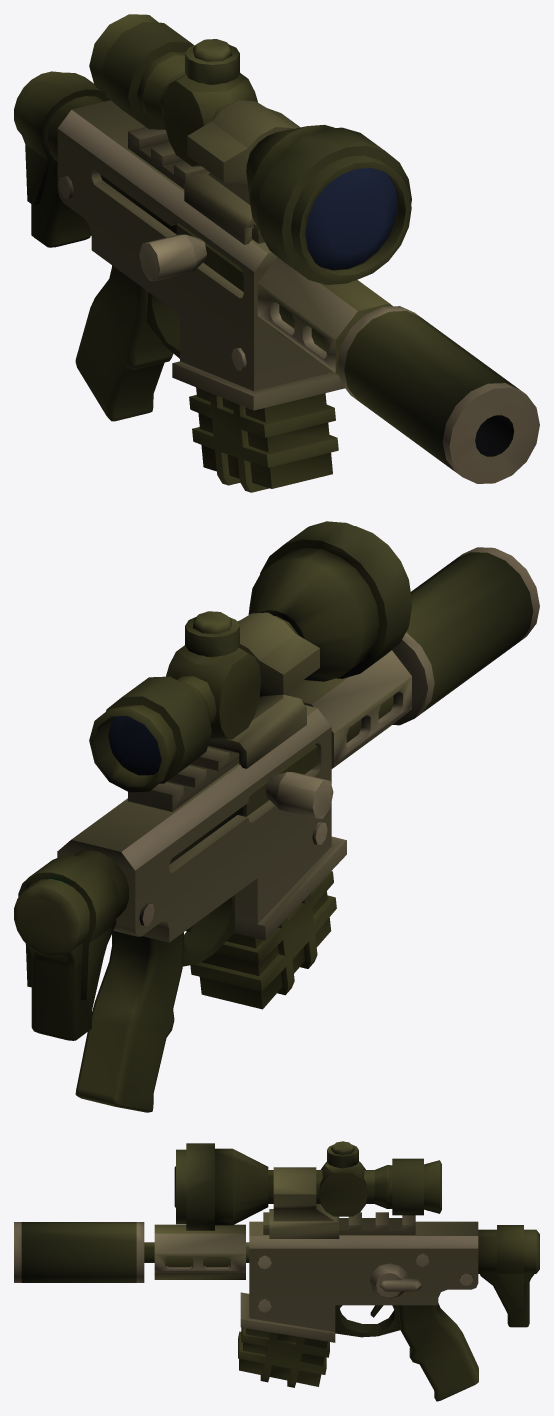
The model's file is FireArms_Sniper_Rifle.gltf.
3 renders of one model, top to bottom at view 1: azimuth 30°, elevation 25°; view 2: azimuth 150°, elevation 25°; view 3: azimuth 270°, elevation 25°, orthographic. The views are drawn at different scales.
Parts seen in each view (by area): view 1: FireArms_Sniper_Rifle; view 2: FireArms_Sniper_Rifle; view 3: FireArms_Sniper_Rifle.
Part boxes in pixels (box(x1,y1,x2,y2)): FireArms_Sniper_Rifle: box(14, 14, 539, 492); FireArms_Sniper_Rifle: box(14, 521, 539, 1112); FireArms_Sniper_Rifle: box(14, 1141, 539, 1401).
Bounding box in the file's own units: 0.2453 × 0.6639 × 1.26.
Materials: 3 (3 with a texture image).
